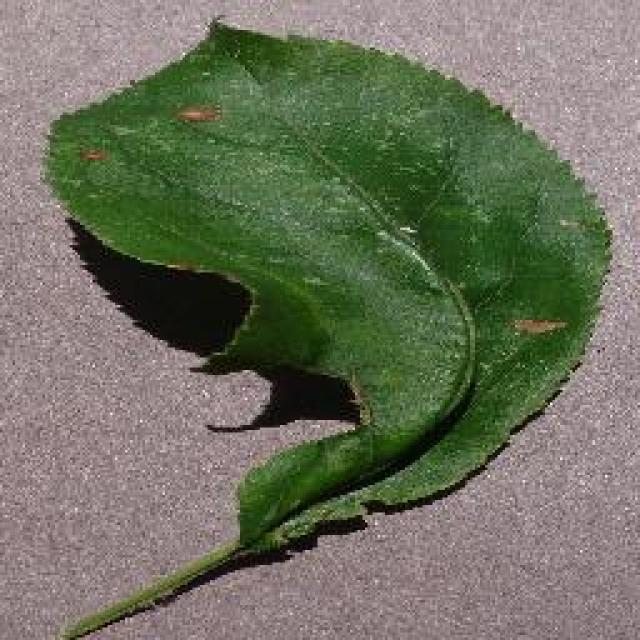App_Black_rot: (505, 301, 583, 349), (166, 90, 226, 145), (71, 134, 120, 172)
